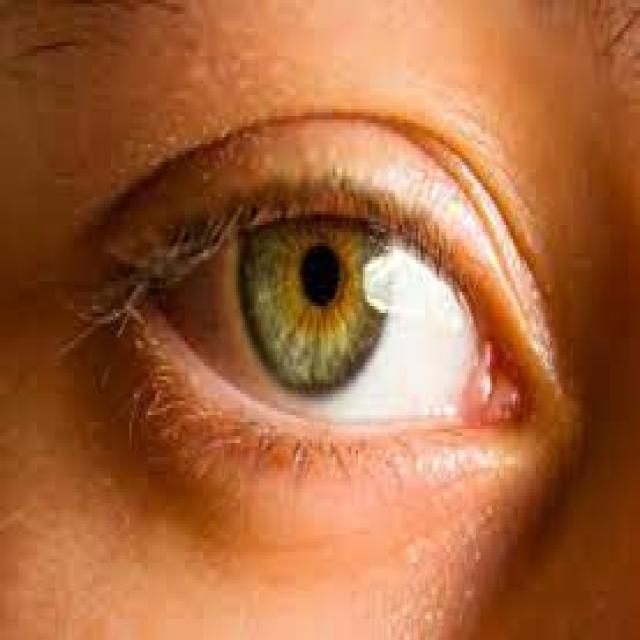Eyes-iris: (232, 180, 398, 403)
